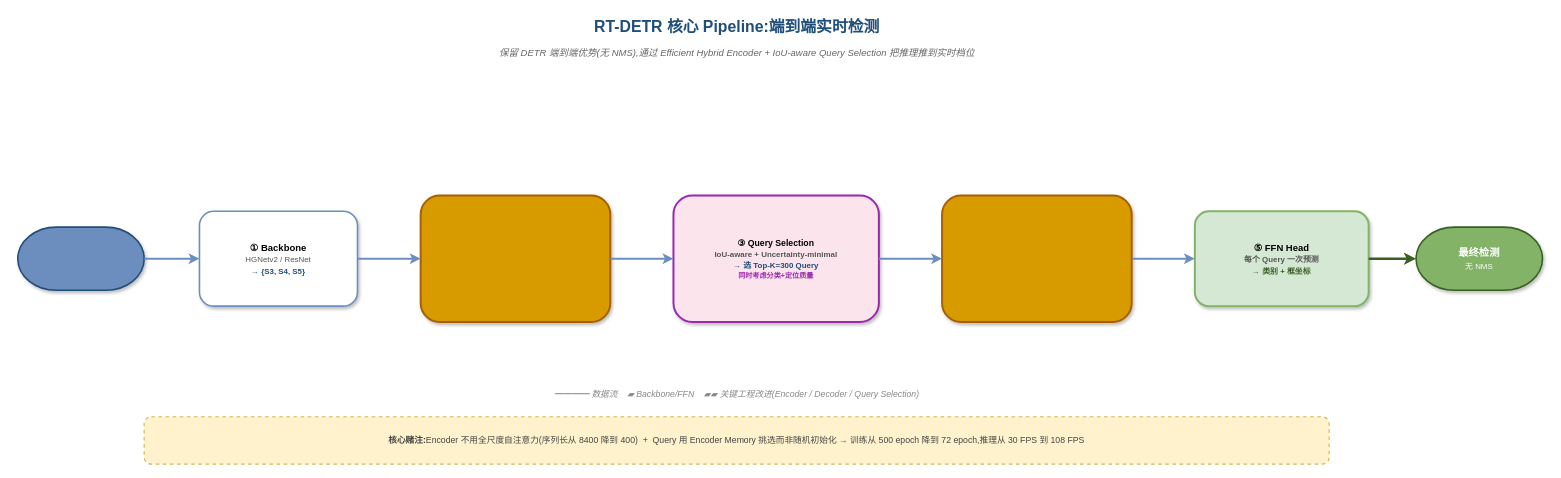
This 1561x478 diagram has some shape labels left out. Each missing label, with the centre of its shape:
② Hybrid Encoder AIFI + CCFM → 多尺度特征交互 关键:Encoder 自注意力仅作用于 S5: the point at 516,259
④ Decoder 6 层可变形注意力 → 迭代精修 object query 辅助损失 + 去噪训练: the point at 1037,259
输入图像 640 × 640 × 3: the point at 81,259
